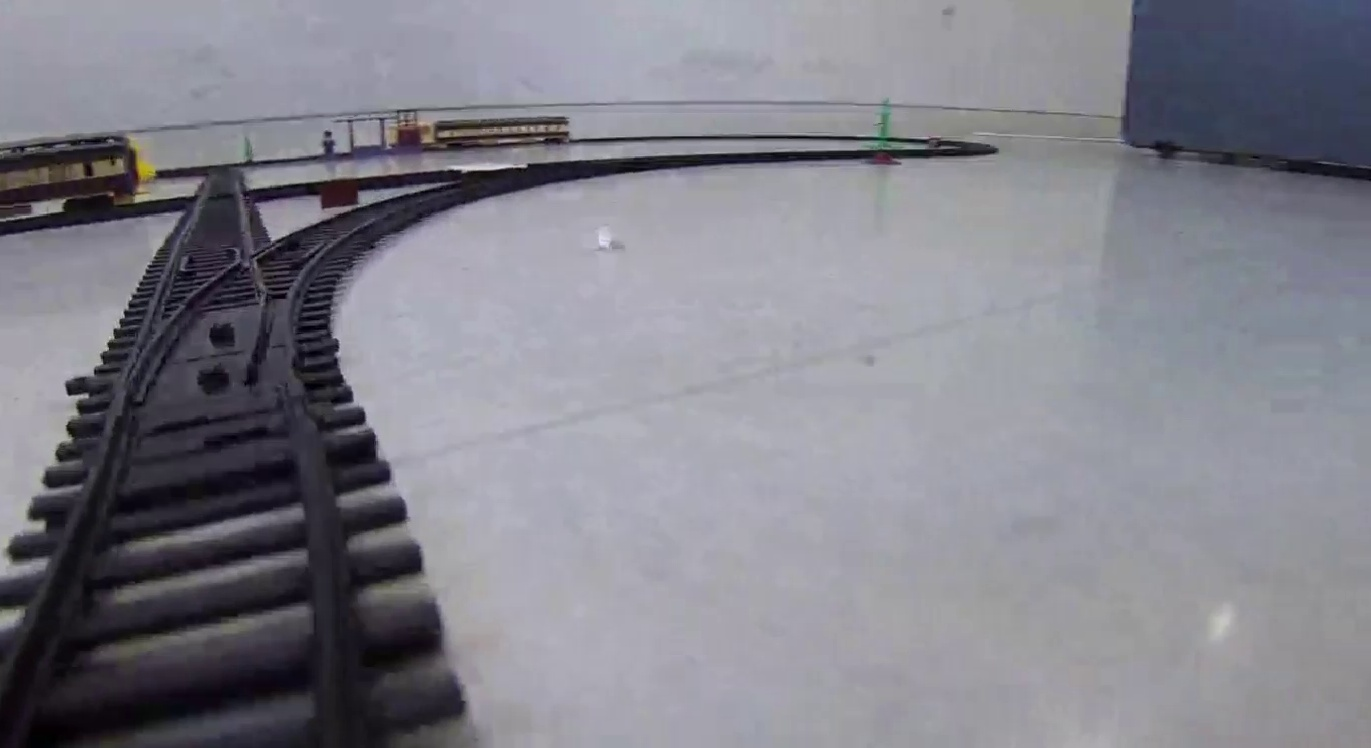box: (321, 180, 361, 202)
